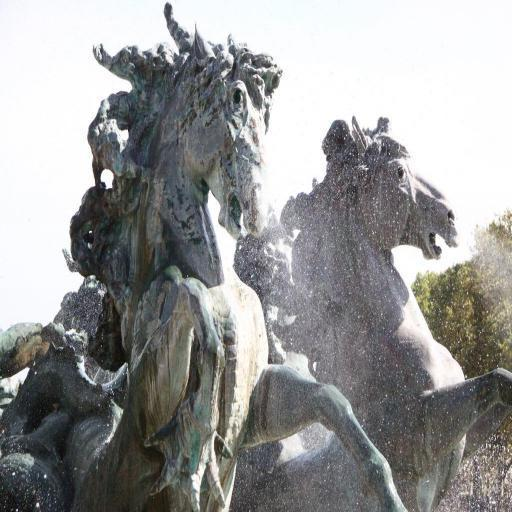horse: (0, 4, 284, 512), (230, 114, 512, 512)
